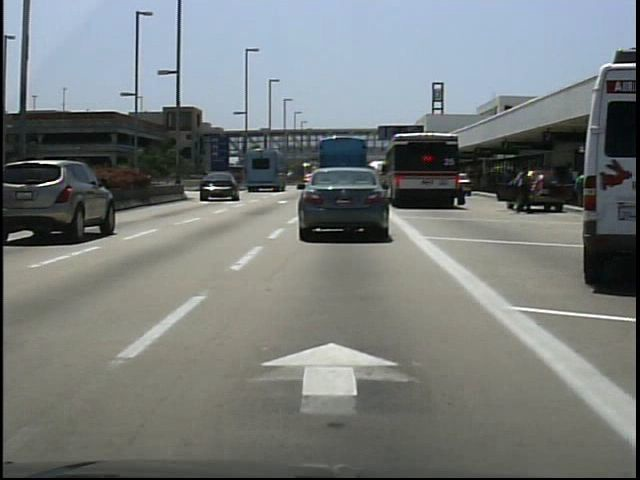person: (513, 163, 535, 217)
